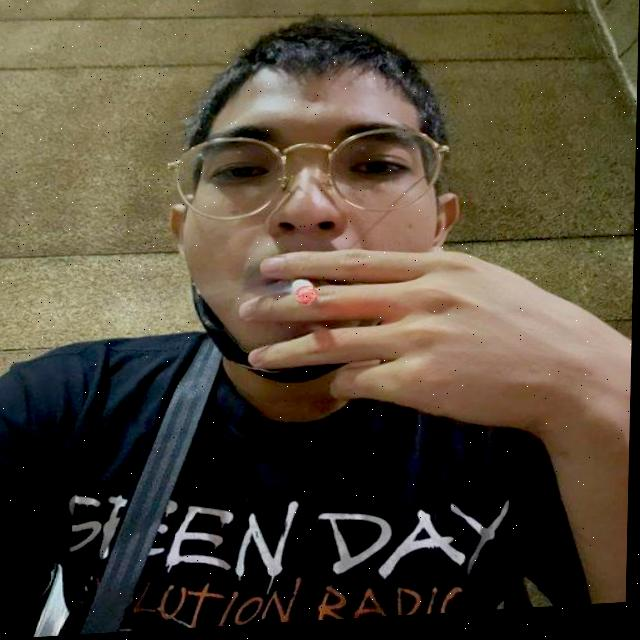cigarette: (292, 281, 319, 312)
